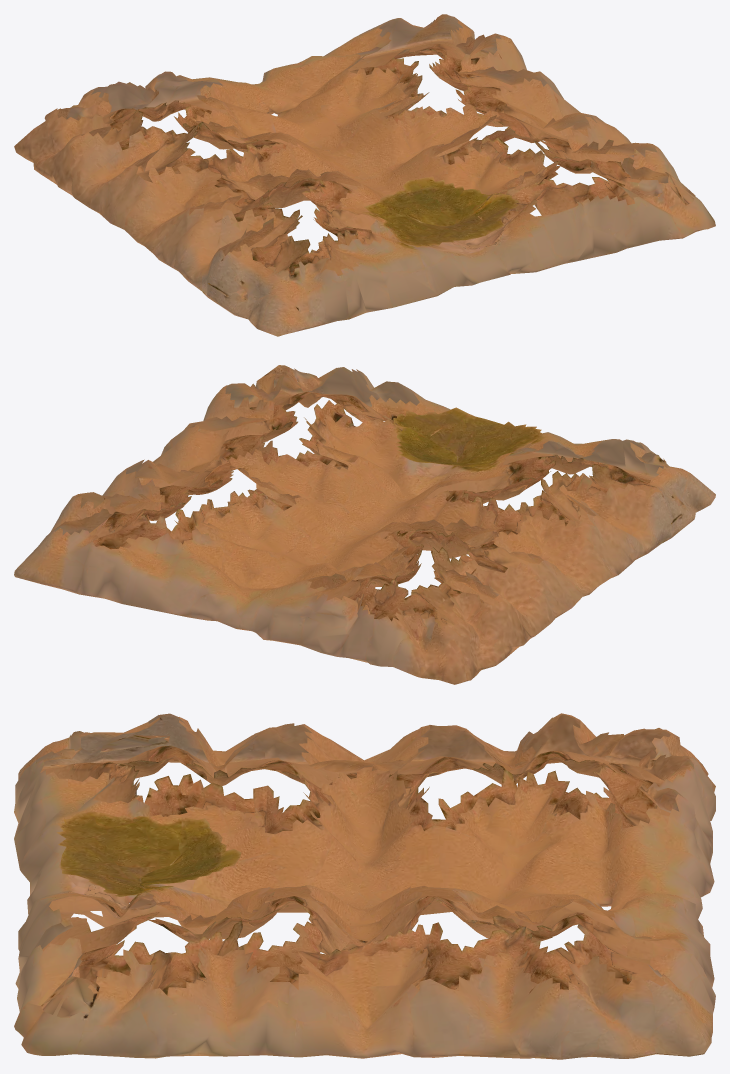
Rendered from hills_autumn.glb.
3 renders of one model, top to bottom at view 1: azimuth 30°, elevation 25°; view 2: azimuth 150°, elevation 25°; view 3: azimuth 270°, elevation 25°, orthographic. The views are drawn at different scales.
Parts seen in each view (by area): view 1: 0; view 2: 0; view 3: 0.
Part boxes in pixels (x1,y1,x2,y2): 0: (14,14,715,336); 0: (14,365,715,684); 0: (14,713,715,1059).
Bounding box in the file's own units: 1.91 × 0.2231 × 1.88.
1 material, 1 textured.
